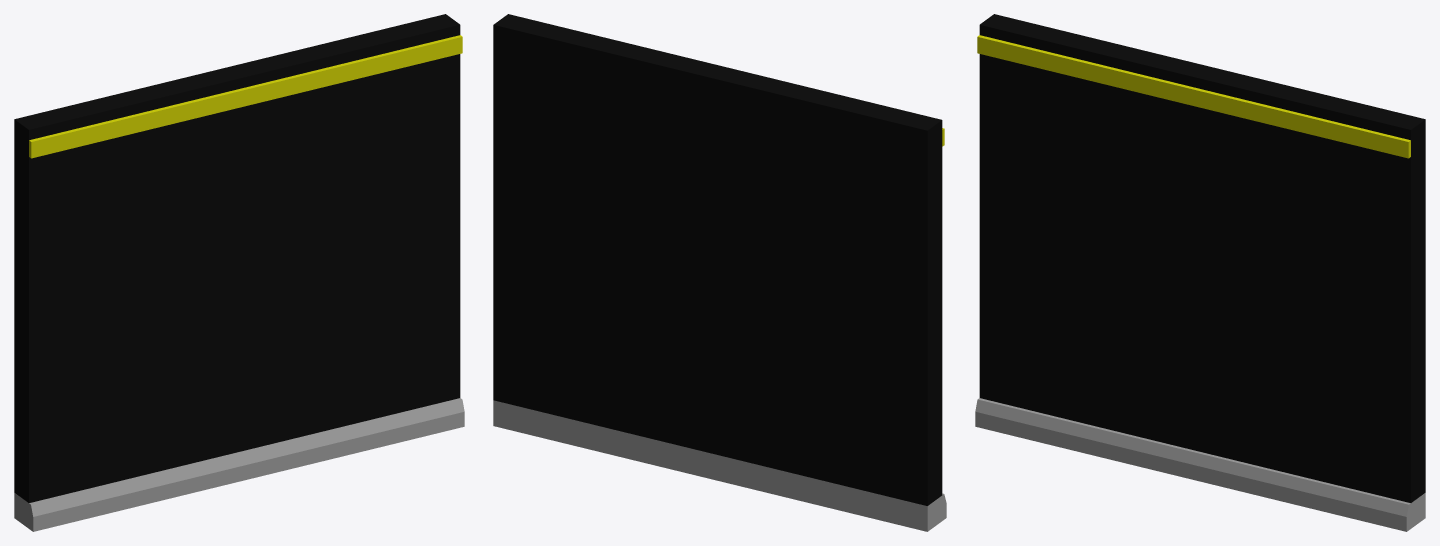
The model's file is WW_wall_prop_04.fbx.
3 views of the same model, side by side, from view 1: azimuth 30°, elevation 25°; view 2: azimuth 150°, elevation 25°; view 3: azimuth 330°, elevation 25° (orthographic).
Parts seen in each view (by area): view 1: WW_wall_duct_geo; view 2: WW_wall_duct_geo; view 3: WW_wall_duct_geo.
Boxes of the visible parts, x1,y1,x2,y2 form: WW_wall_duct_geo: (14,14,464,531); WW_wall_duct_geo: (493,14,946,531); WW_wall_duct_geo: (975,14,1425,531).
Bounding box in the file's own units: 300 × 265 × 22.75.
